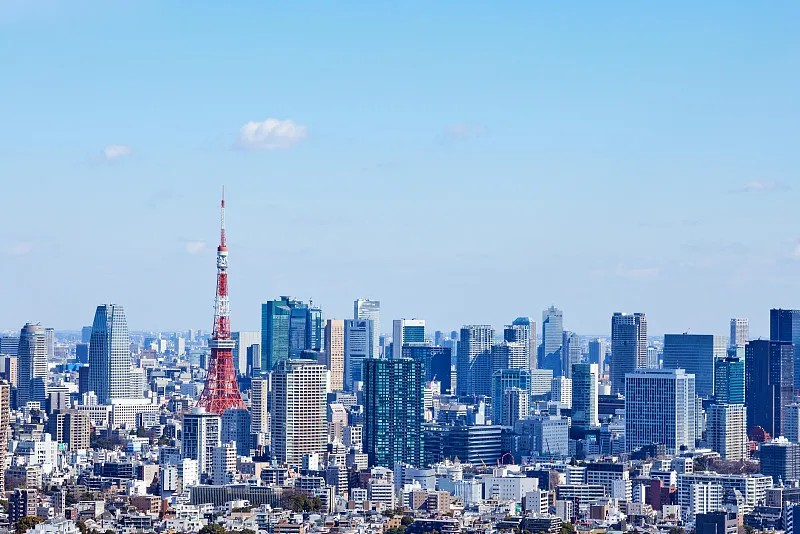Tokyo: (197, 186, 249, 410)
